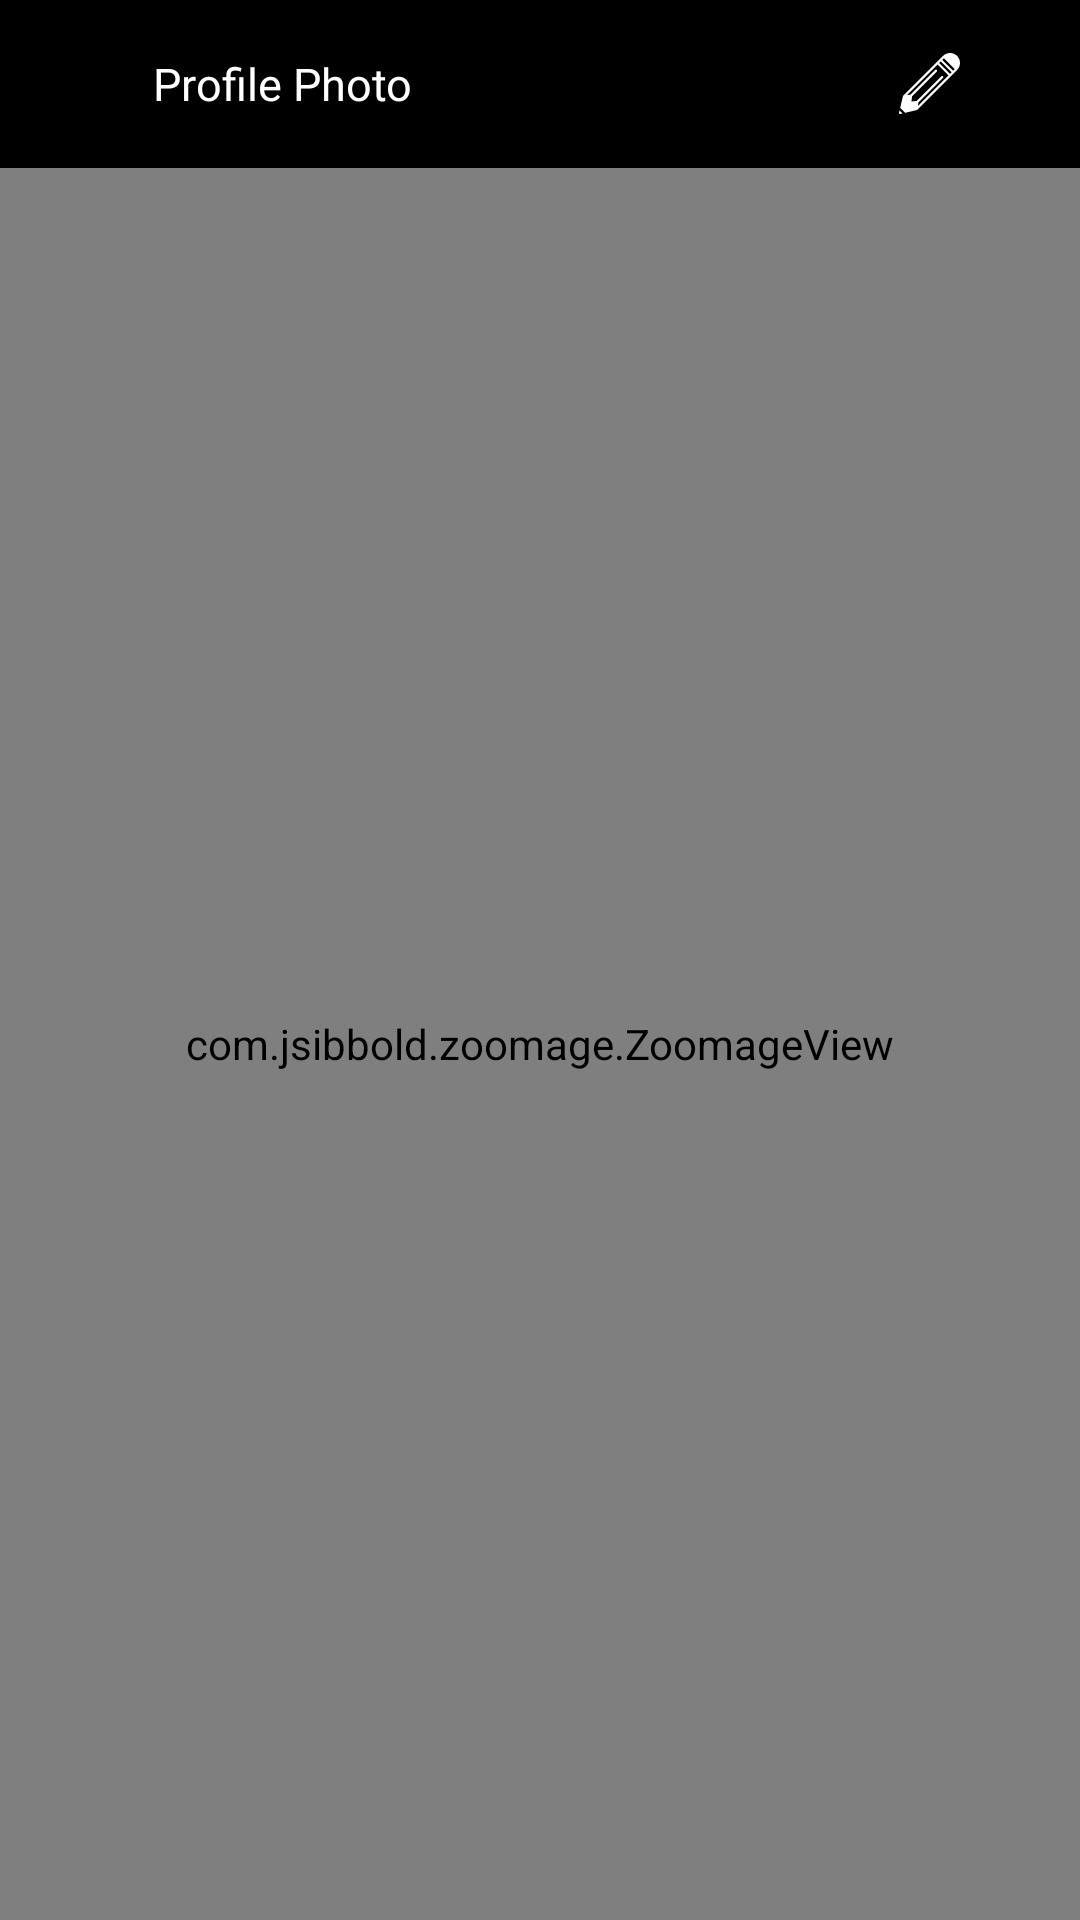

Screen size 1080px×1920px. Icon name, then its center in pixels as (x=x, y=y):
edit: (x=929, y=83)
